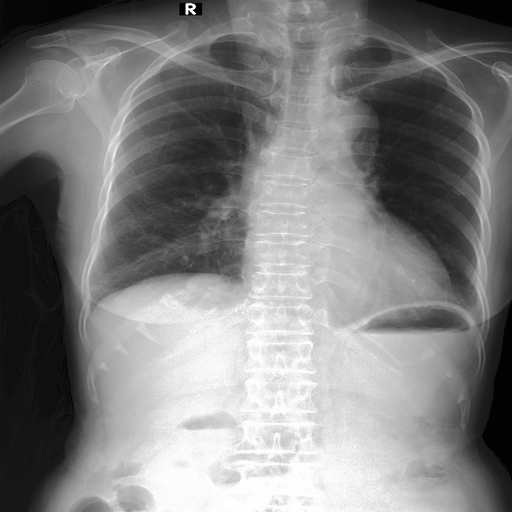Consolidation: (315, 94, 381, 161)
Nodule/Mass: (241, 254, 452, 300)
